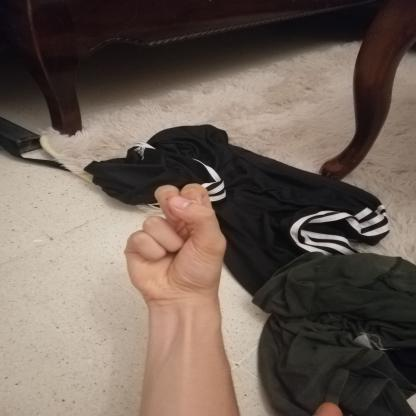QAAF: (112, 173, 236, 306)
